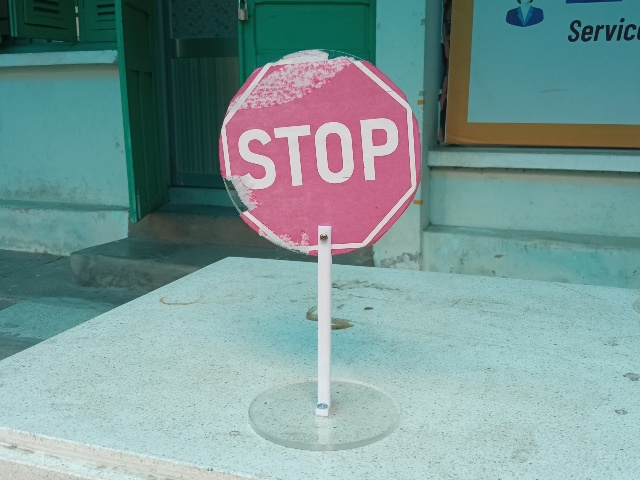Stop_Sign: (221, 47, 420, 255)
